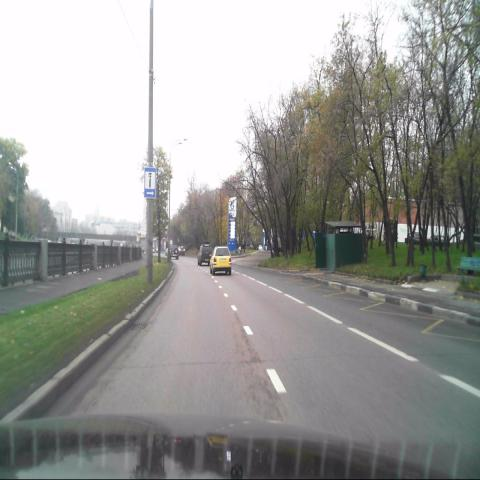7_4: (144, 167, 156, 198)
